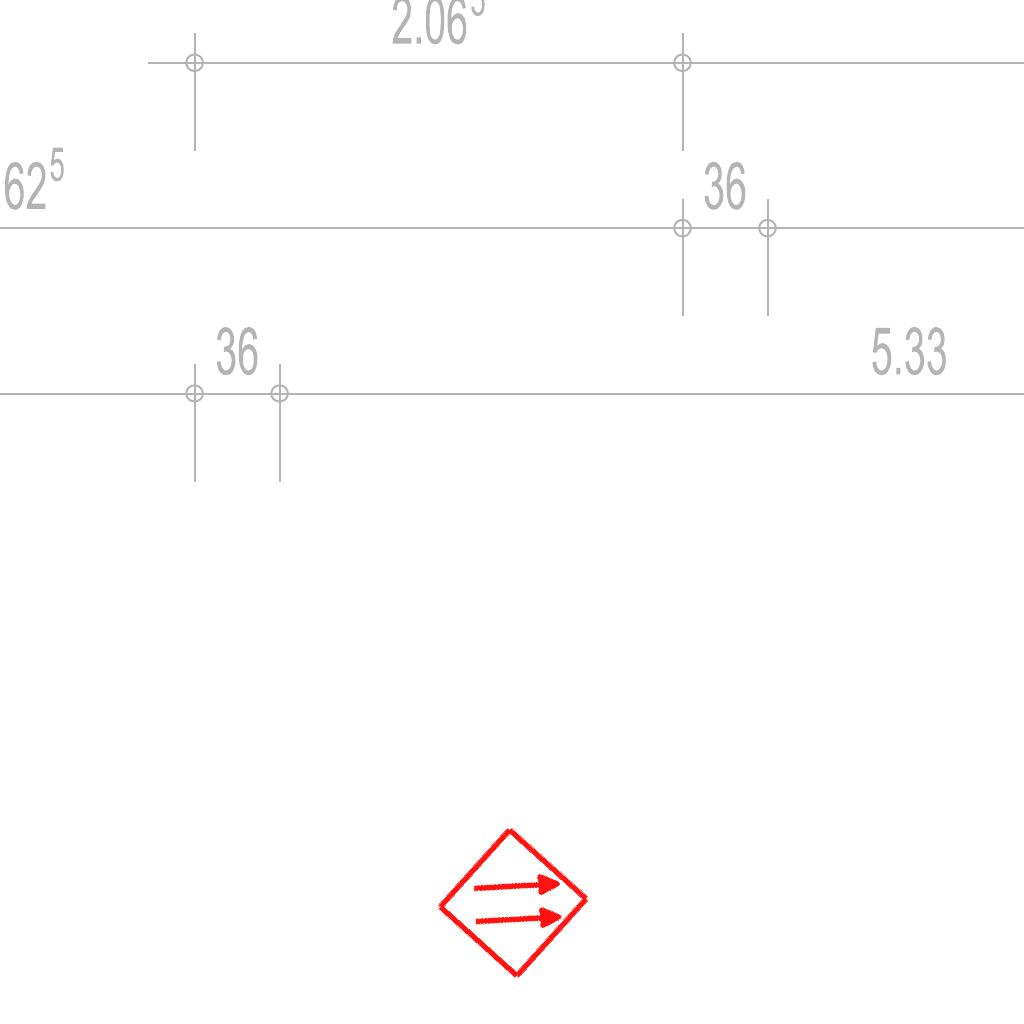RMO_Rauchmelder_optischer: (433, 822, 594, 983)
